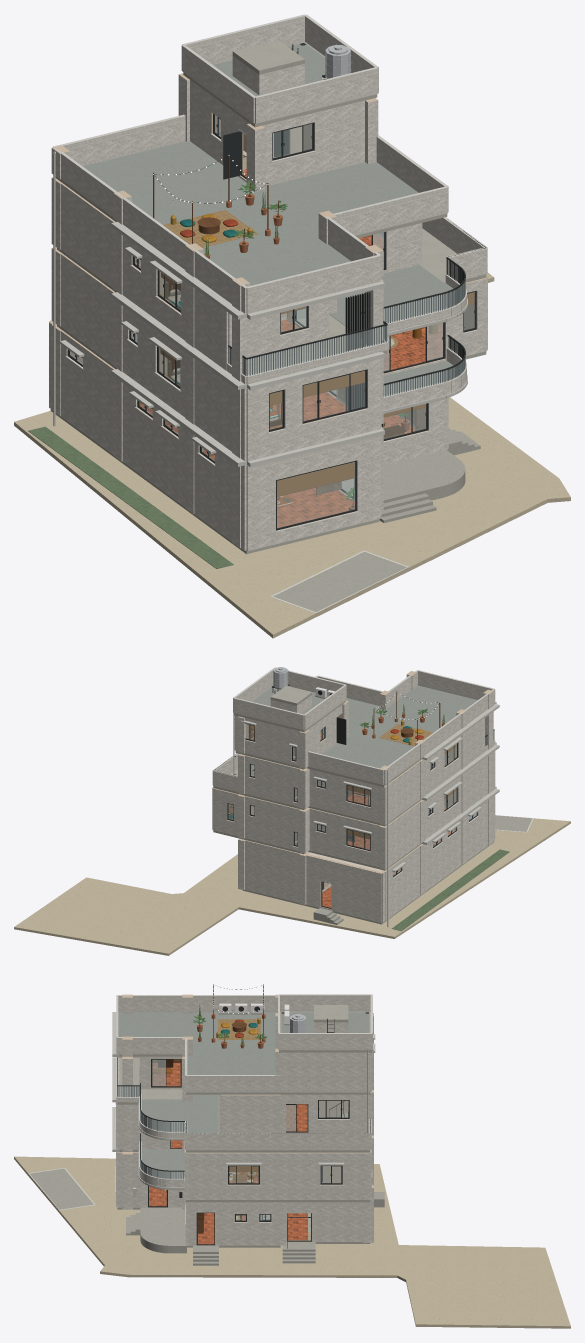
The model's file is bohemian.glb.
3 views of the same model, one above another, from view 1: azimuth 30°, elevation 25°; view 2: azimuth 150°, elevation 25°; view 3: azimuth 270°, elevation 25° (orthographic). The views are drawn at different scales.
Visible parts, largest first — view 1: SITE_site_ground, FLOOR_1_wall_facade, FLOOR_4_floor_finish_terrace, FLOOR_2_wall_facade, FLOOR_4_parapet_facade, FLOOR_3_wall_facade, ROOF_parapet_facade, SITE_site_porch, FLOOR_4_wall_facade, FLOOR_1_window_glass, FLOOR_3_railing_metal, FLOOR_4_column_facade (+36 smaller); view 2: SITE_site_ground, FLOOR_1_wall_facade, FLOOR_2_wall_facade, FLOOR_3_wall_facade, FLOOR_4_floor_finish_terrace, FLOOR_4_parapet_facade, ROOF_parapet_facade, FLOOR_4_wall_facade, FLOOR_2_column_facade, FLOOR_3_column_facade, FLOOR_1_column_facade, FLOOR_4_column_facade (+24 smaller); view 3: SITE_site_ground, FLOOR_2_wall_facade, FLOOR_1_wall_facade, FLOOR_4_floor_finish_terrace, SITE_site_porch, FLOOR_3_wall_facade, FLOOR_4_parapet_facade, FLOOR_3_parapet_facade, FLOOR_4_wall_facade, ROOF_parapet_facade, FLOOR_3_floor_finish_terrace, FLOOR_3_slab_slab (+24 smaller).
Boxes of the visible parts, x1,y1,x2,y2 form: SITE_site_ground: (14, 272, 570, 638); FLOOR_1_wall_facade: (49, 321, 448, 550); FLOOR_4_floor_finish_terrace: (83, 141, 418, 285); FLOOR_2_wall_facade: (60, 254, 487, 461); FLOOR_4_parapet_facade: (53, 116, 448, 313); FLOOR_3_wall_facade: (60, 184, 422, 370); ROOF_parapet_facade: (181, 16, 378, 123); SITE_site_porch: (273, 428, 480, 611); FLOOR_4_wall_facade: (190, 80, 364, 186); FLOOR_1_window_glass: (70, 351, 425, 528); FLOOR_3_railing_metal: (228, 223, 486, 376); FLOOR_4_column_facade: (51, 75, 383, 311); SITE_site_ground: (14, 818, 570, 955); FLOOR_1_wall_facade: (245, 795, 495, 922); FLOOR_2_wall_facade: (212, 751, 495, 867); FLOOR_3_wall_facade: (245, 718, 484, 823); FLOOR_4_floor_finish_terrace: (322, 685, 477, 768); FLOOR_4_parapet_facade: (308, 671, 495, 784); ROOF_parapet_facade: (233, 670, 346, 730); FLOOR_4_wall_facade: (234, 705, 342, 766); FLOOR_2_column_facade: (238, 752, 493, 869); FLOOR_3_column_facade: (238, 712, 493, 825); FLOOR_1_column_facade: (238, 796, 493, 921); FLOOR_4_column_facade: (238, 672, 493, 784); SITE_site_ground: (14, 1156, 570, 1328); FLOOR_2_wall_facade: (116, 1102, 371, 1199); FLOOR_1_wall_facade: (116, 1152, 363, 1245); FLOOR_4_floor_finish_terrace: (118, 1012, 275, 1074); SITE_site_porch: (30, 1168, 384, 1265); FLOOR_3_wall_facade: (139, 1056, 363, 1132); FLOOR_4_parapet_facade: (116, 996, 280, 1092); FLOOR_3_parapet_facade: (116, 1056, 371, 1150); FLOOR_4_wall_facade: (279, 1052, 371, 1092); ROOF_parapet_facade: (278, 995, 372, 1050); FLOOR_3_floor_finish_terrace: (141, 1094, 218, 1132); FLOOR_3_slab_slab: (117, 1058, 370, 1152).
Bounding box in the file's own units: 26.38 × 16.92 × 36.59.
49 materials, 30 textured.
